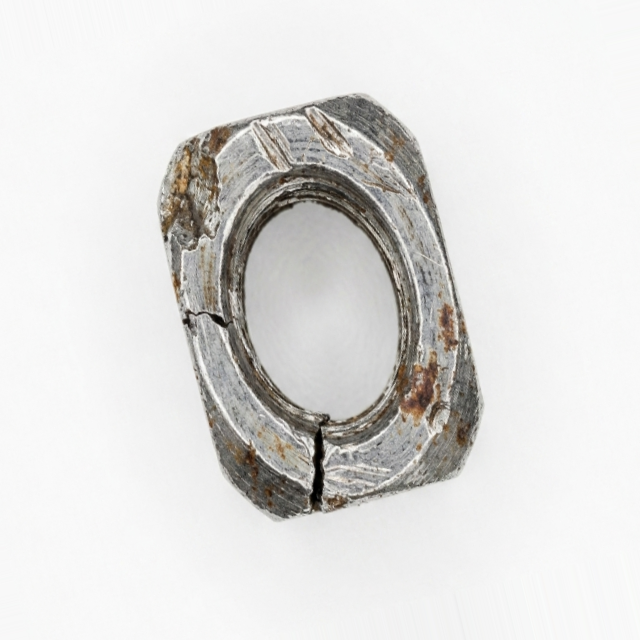defect: (147, 132, 230, 262), (291, 404, 342, 527), (244, 117, 302, 187), (171, 295, 257, 337), (304, 100, 359, 165), (353, 156, 421, 203), (422, 389, 465, 435)
